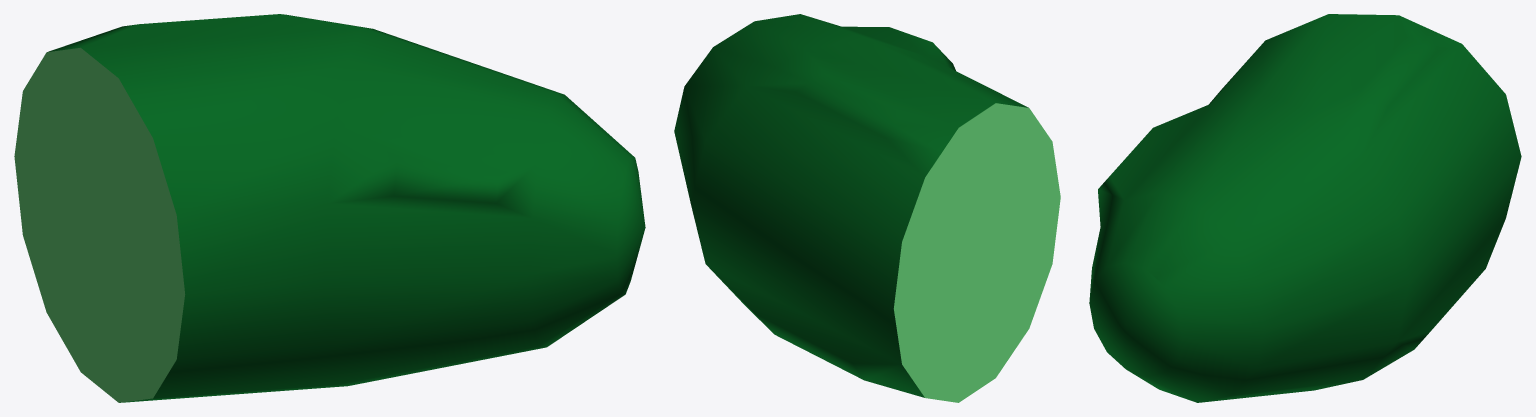
The model's file is mesh_Pickle_Stage10.fbx.
3 views of the same model, side by side, from view 1: azimuth 30°, elevation 25°; view 2: azimuth 150°, elevation 25°; view 3: azimuth 270°, elevation 25° (orthographic). The views are drawn at different scales.
Parts seen in each view (by area): view 1: mesh_Pickle_Stage10; view 2: mesh_Pickle_Stage10; view 3: mesh_Pickle_Stage10.
Boxes of the visible parts, x1,y1,x2,y2 form: mesh_Pickle_Stage10: (14,14,645,402); mesh_Pickle_Stage10: (674,14,1060,402); mesh_Pickle_Stage10: (1089,14,1521,402).
Bounding box in the file's own units: 0.0462 × 0.033 × 0.0457.
